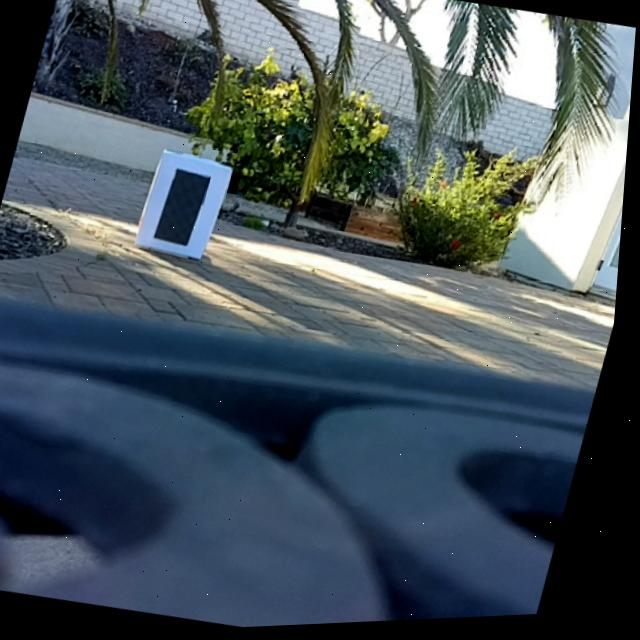led: (155, 167, 216, 253)
